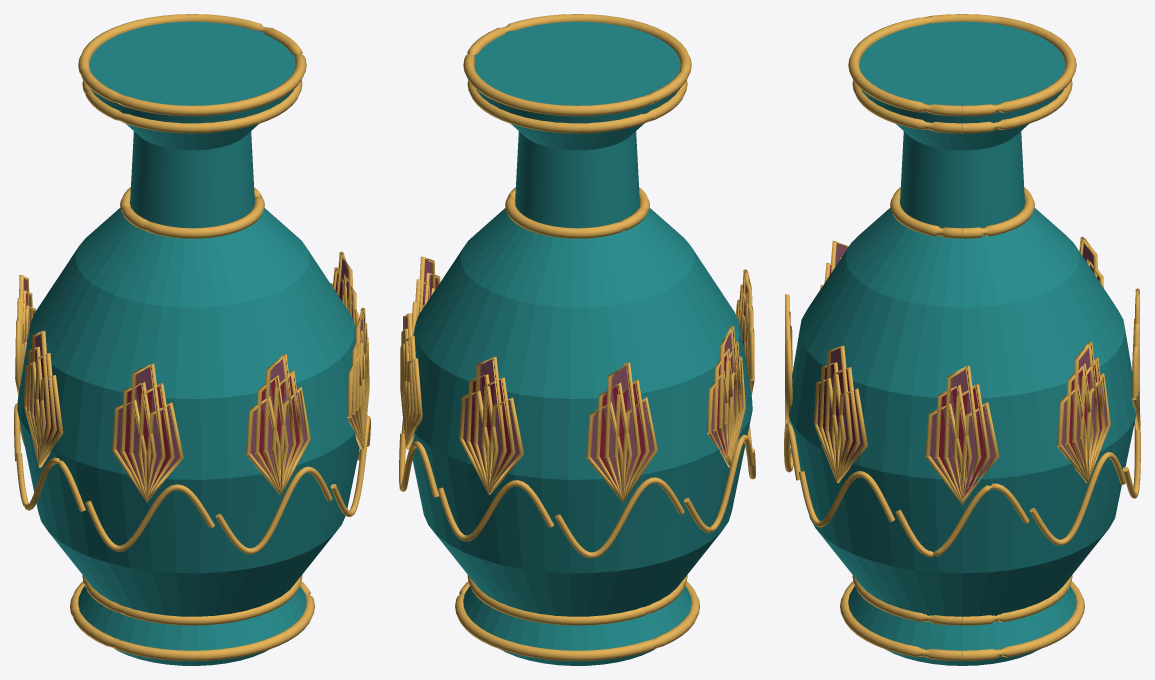
The model's file is cloisonne_vase.fbx.
3 renders of one model, left to right at view 1: azimuth 30°, elevation 25°; view 2: azimuth 150°, elevation 25°; view 3: azimuth 270°, elevation 25°, orthographic.
Parts seen in each view (by area): view 1: cloisonne_vase joinery; view 2: cloisonne_vase joinery; view 3: cloisonne_vase joinery.
Boxes of the visible parts, x1,y1,x2,y2 form: cloisonne_vase joinery: (14, 14, 370, 665); cloisonne_vase joinery: (399, 14, 755, 665); cloisonne_vase joinery: (784, 14, 1140, 665).
Bounding box in the file's own units: 0.0855 × 0.1494 × 0.0855.
